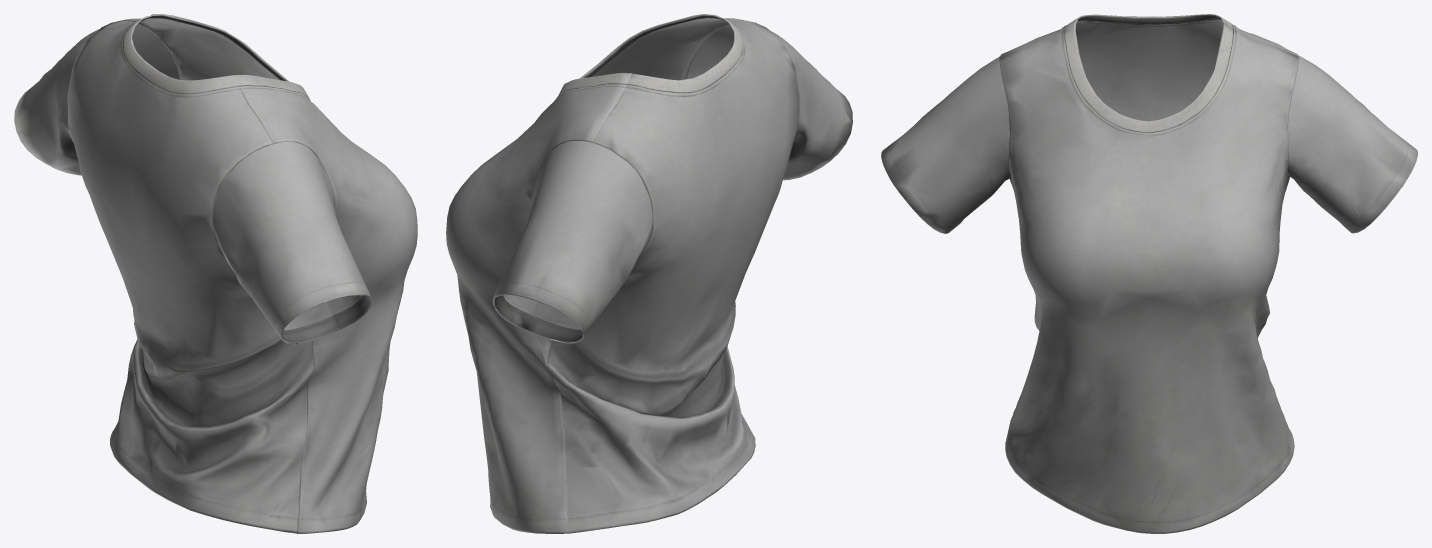
3 views of the same model, side by side, from view 1: azimuth 30°, elevation 25°; view 2: azimuth 150°, elevation 25°; view 3: azimuth 270°, elevation 25° (orthographic). The views are drawn at different scales.
Parts seen in each view (by area): view 1: Object_2; view 2: Object_2; view 3: Object_2.
Part boxes in pixels (box(x1,y1,x2,y2)): Object_2: box(14, 14, 417, 533); Object_2: box(446, 14, 852, 533); Object_2: box(881, 14, 1417, 533).
Bounding box in the file's own units: 0.5157 × 0.9264 × 1.03.
Materials: 1 (1 with a texture image).
